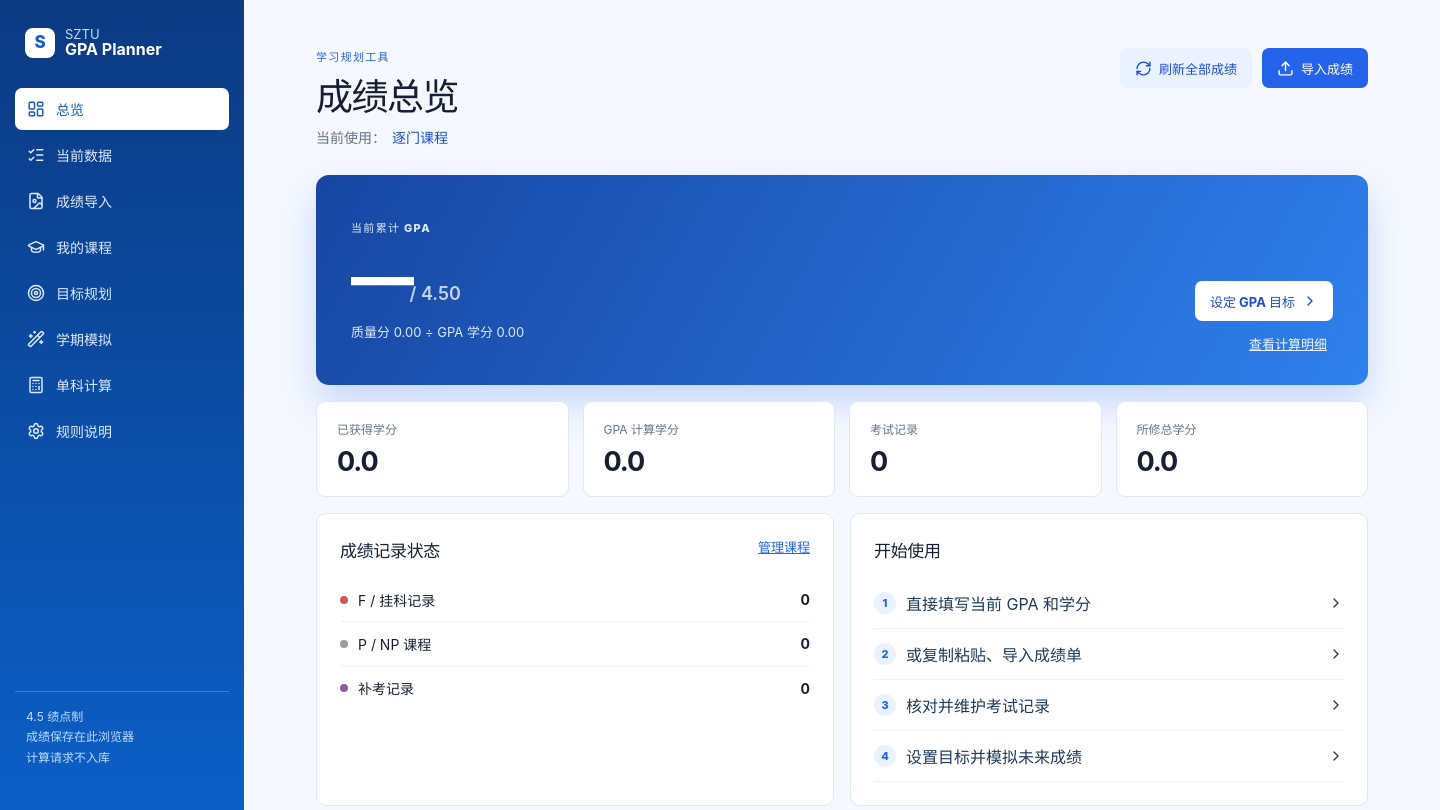
Test: grade screenshot import flow › derives B+ and 3.5 from a manually entered score of 82
Click the button "我的课程".
click(122, 247)  # box [15,226,229,268]
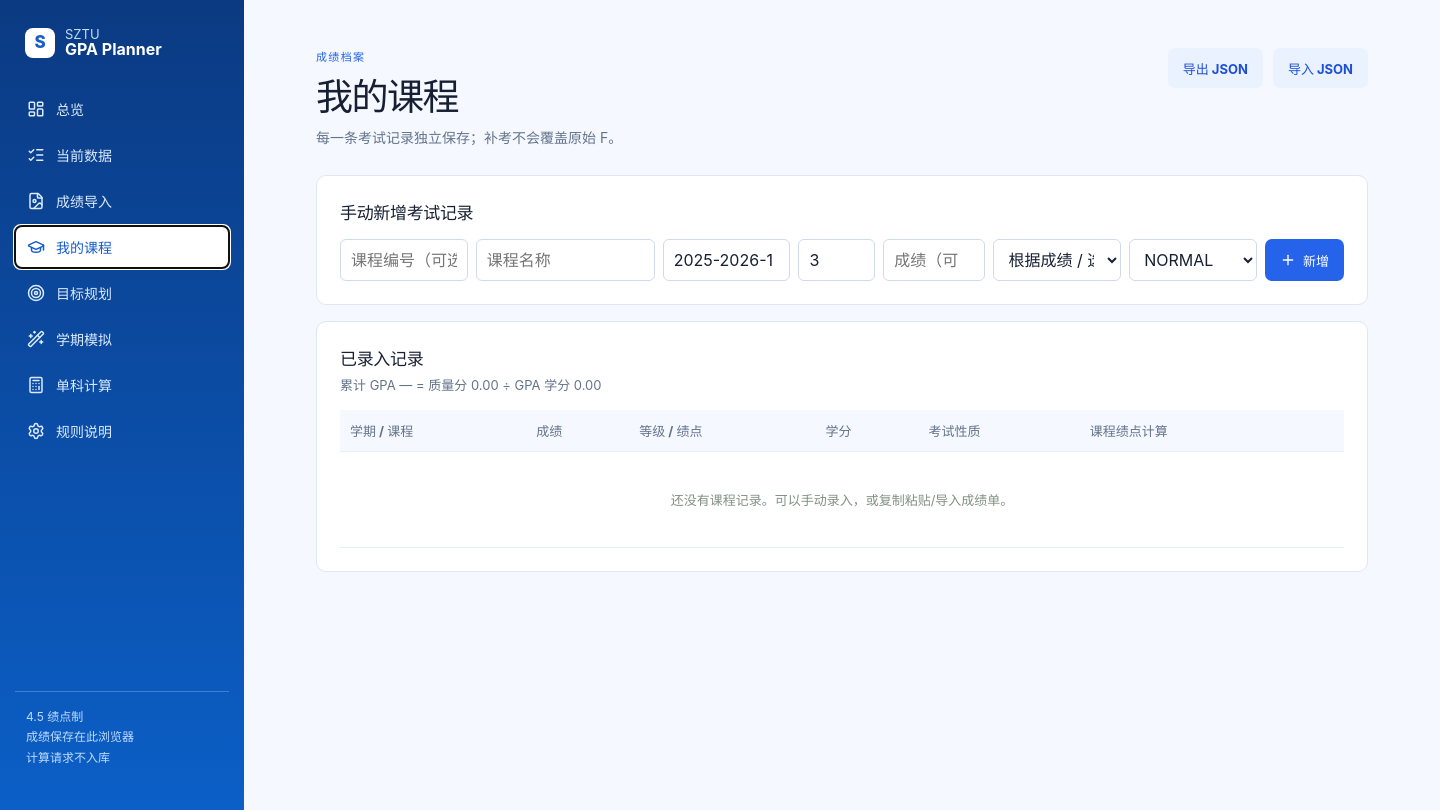
Type "绩点映射测试" into the field with placeholder "课程名称".
click(565, 260); type("绩点映射测试")  # box [476,239,655,281]
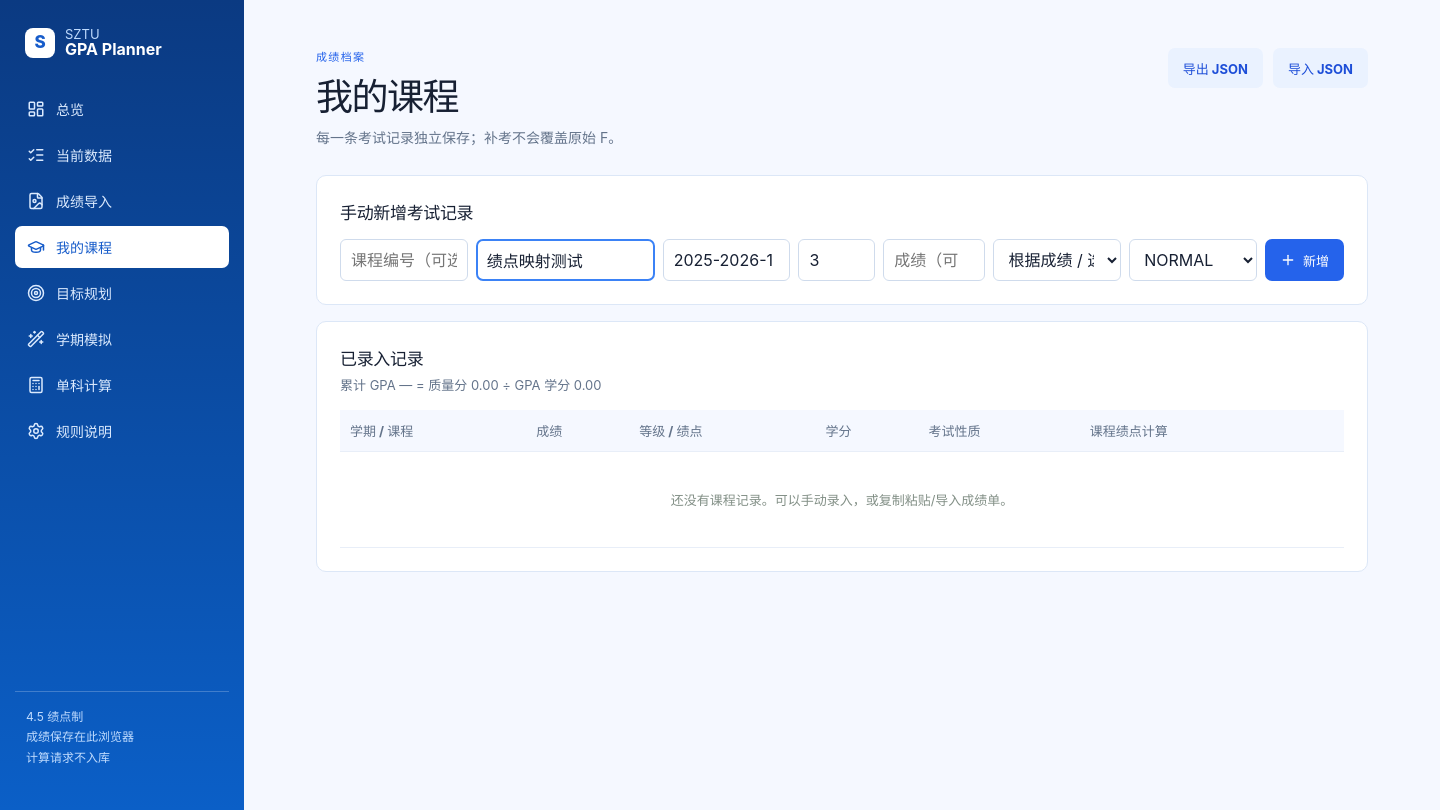
Type "82" into the number field with placeholder "成绩（可选）".
click(934, 260); type("82")  # box [883,239,985,281]
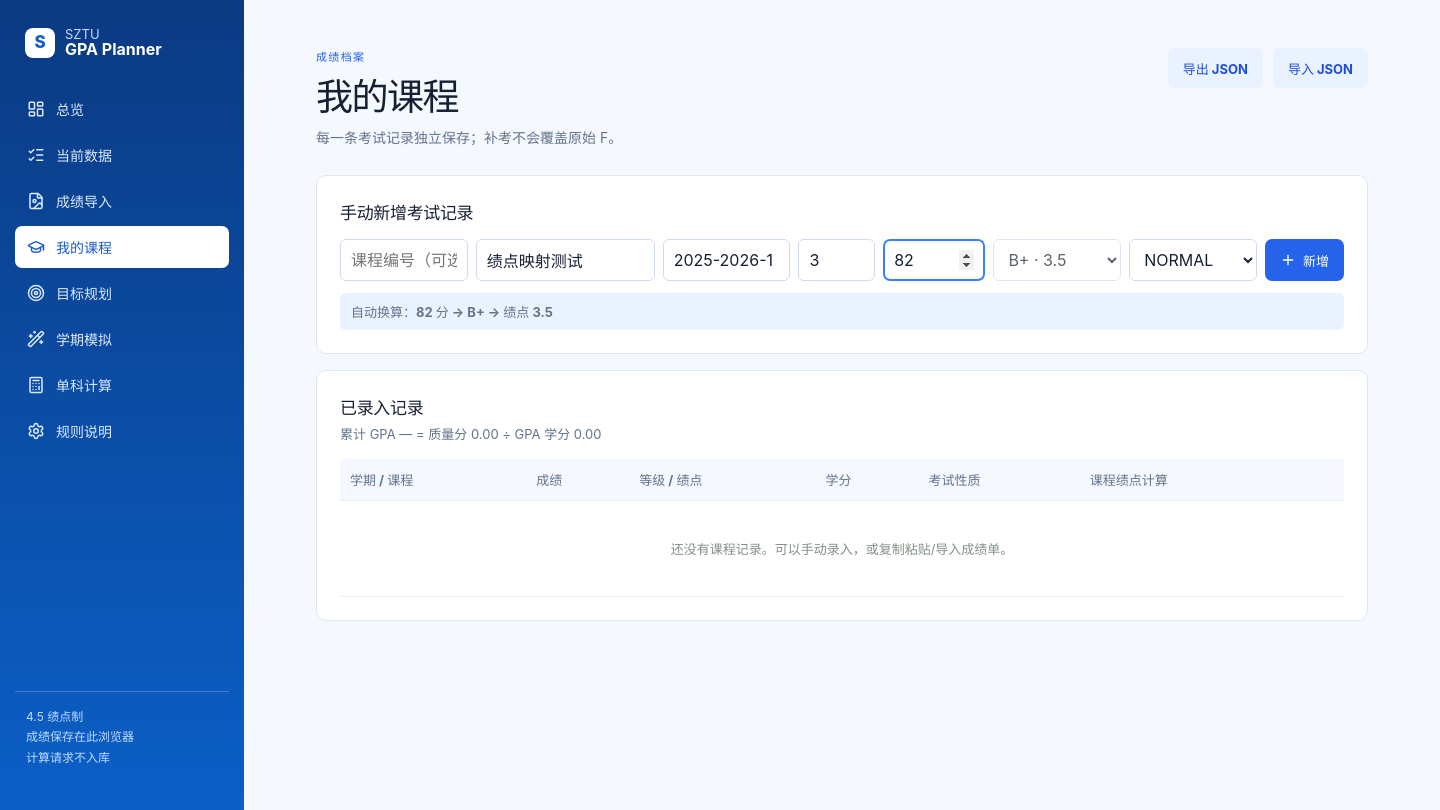
Click the button "新增".
click(1304, 260)  # box [1265,239,1344,281]
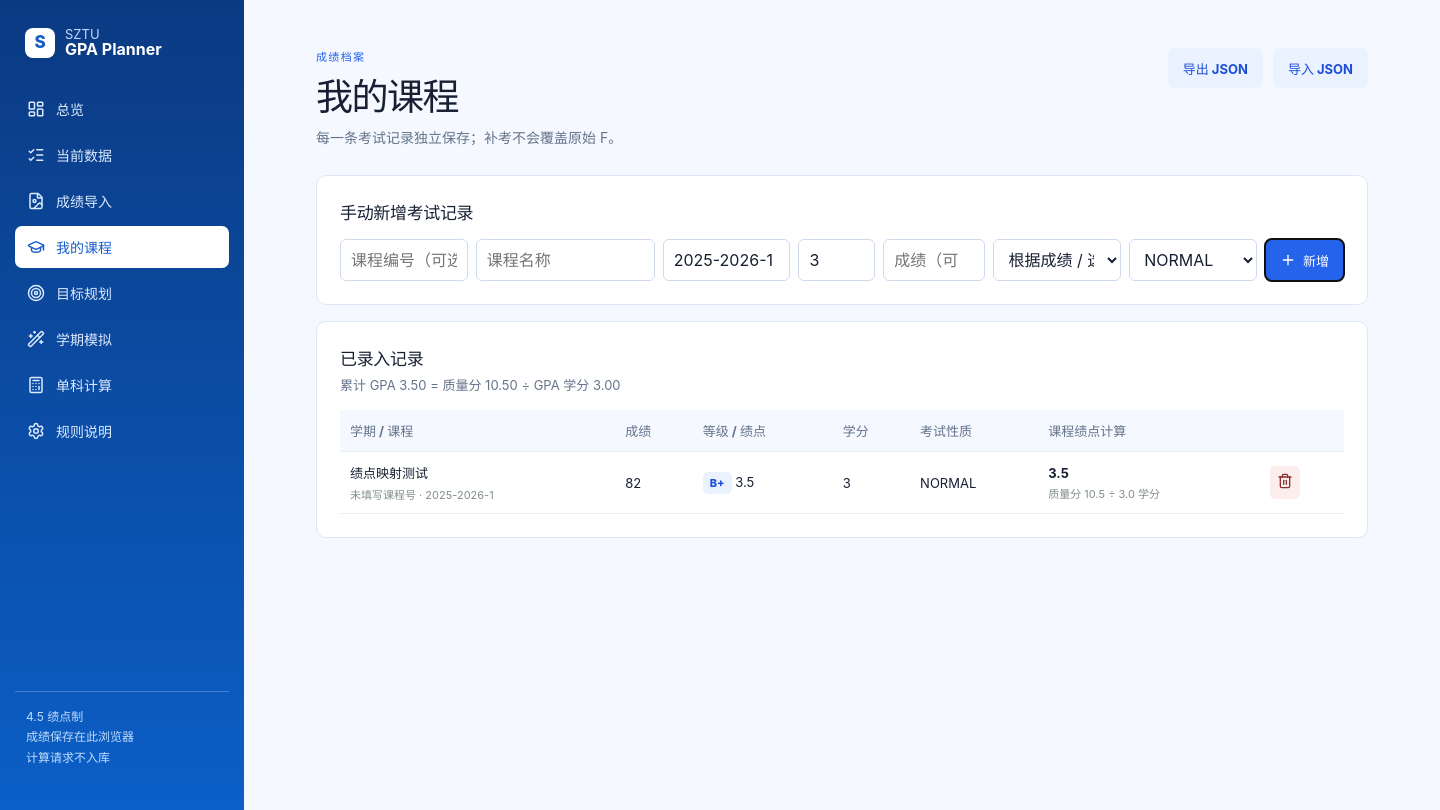
Expected: the text "B+" is shown, [703,472,732,494]
Expected: the text "绩点映射测试" is shown, [350,465,428,481]
Expected: the text "3.5" is shown 2 times, [693,452,833,514]; [1048,464,1069,480]
